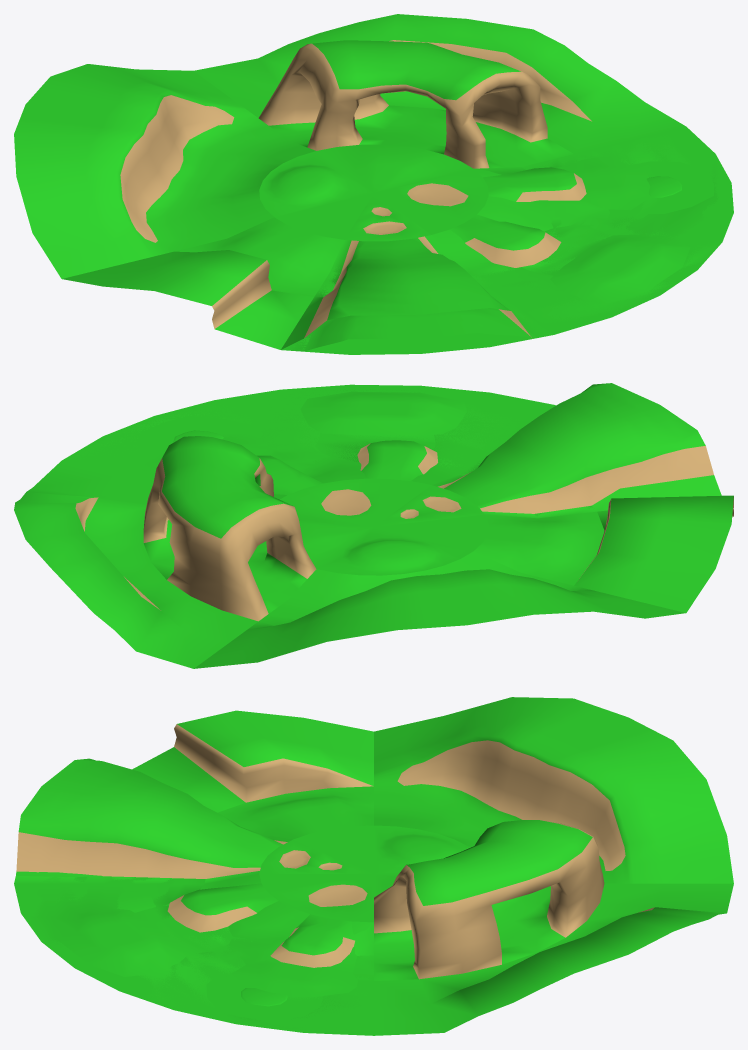
File: DHGlevelSystem.fbx
3 renders of one model, top to bottom at view 1: azimuth 30°, elevation 25°; view 2: azimuth 150°, elevation 25°; view 3: azimuth 270°, elevation 25°, orthographic.
Visible parts, largest first — view 1: LevelMidFarA01, LevelMidA01, LevelFarA01, LevelMidFarA02, LevelFarA02, LevelMidFarB01, LevelFarB01, LevelMidA02, LevelMidFarAflat, LevelMidB01, LevelFarB02, LevelCntA01 (+5 smaller); view 2: LevelMidFarB01, LevelMidA01, LevelFarA01, LevelMidFarA01, LevelMidFarA02, LevelFarB01, LevelFarA02, LevelMidFarAflat, LevelMidB01, LevelMidA02, LevelCntA02, LevelCntA03 (+3 smaller); view 3: LevelMidFarA01, LevelMidA01, LevelMidFarB01, LevelFarA01, LevelMidFarA02, LevelFarB01, LevelFarA02, LevelMidA02, LevelMidFarAflat, LevelMidB01, LevelCntA03, LevelCntA02 (+3 smaller).
Part boxes in pixels (bbox=[...]): LevelMidFarA01: bbox=[14, 64, 315, 278]; LevelMidA01: bbox=[258, 40, 573, 168]; LevelFarA01: bbox=[194, 14, 685, 153]; LevelMidFarA02: bbox=[432, 127, 733, 333]; LevelFarA02: bbox=[490, 126, 729, 334]; LevelMidFarB01: bbox=[281, 235, 553, 349]; LevelFarB01: bbox=[62, 250, 313, 349]; LevelMidA02: bbox=[450, 155, 595, 286]; LevelMidFarAflat: bbox=[474, 127, 729, 334]; LevelMidB01: bbox=[175, 217, 343, 296]; LevelFarB02: bbox=[281, 287, 552, 351]; LevelCntA01: bbox=[317, 144, 472, 192]; LevelMidFarB01: bbox=[432, 383, 721, 518]; LevelMidA01: bbox=[143, 436, 316, 621]; LevelFarA01: bbox=[14, 460, 257, 668]; LevelMidFarA01: bbox=[194, 551, 685, 668]; LevelMidFarA02: bbox=[63, 384, 553, 499]; LevelFarB01: bbox=[574, 495, 733, 612]; LevelFarA02: bbox=[62, 384, 552, 481]; LevelMidFarAflat: bbox=[62, 385, 550, 482]; LevelMidB01: bbox=[473, 511, 604, 585]; LevelMidA02: bbox=[257, 439, 488, 494]; LevelCntA02: bbox=[317, 527, 472, 575]; LevelCntA03: bbox=[280, 478, 430, 526]; LevelMidFarA01: bbox=[374, 697, 733, 883]; LevelMidA01: bbox=[374, 820, 604, 980]; LevelMidFarB01: bbox=[14, 758, 292, 883]; LevelFarA01: bbox=[374, 883, 733, 1035]; LevelMidFarA02: bbox=[14, 874, 373, 1035]; LevelFarB01: bbox=[132, 710, 373, 812]; LevelFarA02: bbox=[16, 883, 373, 1035]; LevelMidA02: bbox=[143, 883, 373, 980]; LevelMidFarAflat: bbox=[17, 883, 373, 1035]; LevelMidB01: bbox=[218, 786, 373, 839]; LevelCntA03: bbox=[259, 874, 373, 922]; LevelCntA02: bbox=[374, 825, 469, 873].
Size of the model in its own units: 10000 by 1304 by 10000.
